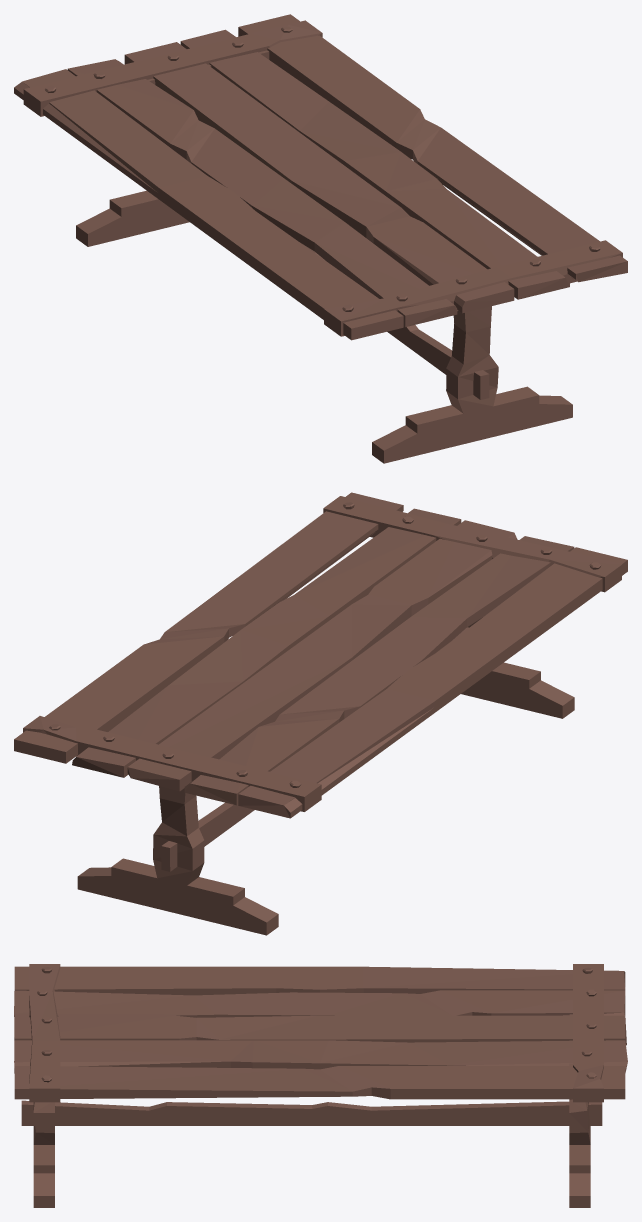
Rendered from Table_Big.dae.
3 views of the same model, one above another, from view 1: azimuth 30°, elevation 25°; view 2: azimuth 150°, elevation 25°; view 3: azimuth 270°, elevation 25° (orthographic). The views are drawn at different scales.
Parts seen in each view (by area): view 1: Table_Big; view 2: Table_Big; view 3: Table_Big.
Boxes of the visible parts, x1=… form: Table_Big: x1=14, y1=14, x2=627, y2=463; Table_Big: x1=14, y1=492, x2=627, y2=935; Table_Big: x1=14, y1=964, x2=627, y2=1207.
Size of the model in its own units: 1.58 by 3.3 by 0.854.
